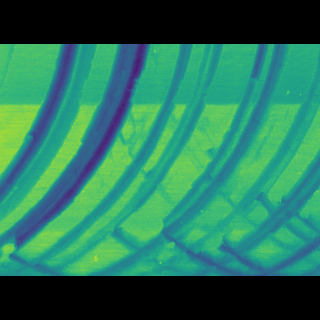Loch: (25, 75, 224, 238), (0, 75, 154, 233), (160, 75, 293, 220), (0, 75, 100, 202), (226, 151, 319, 241)
